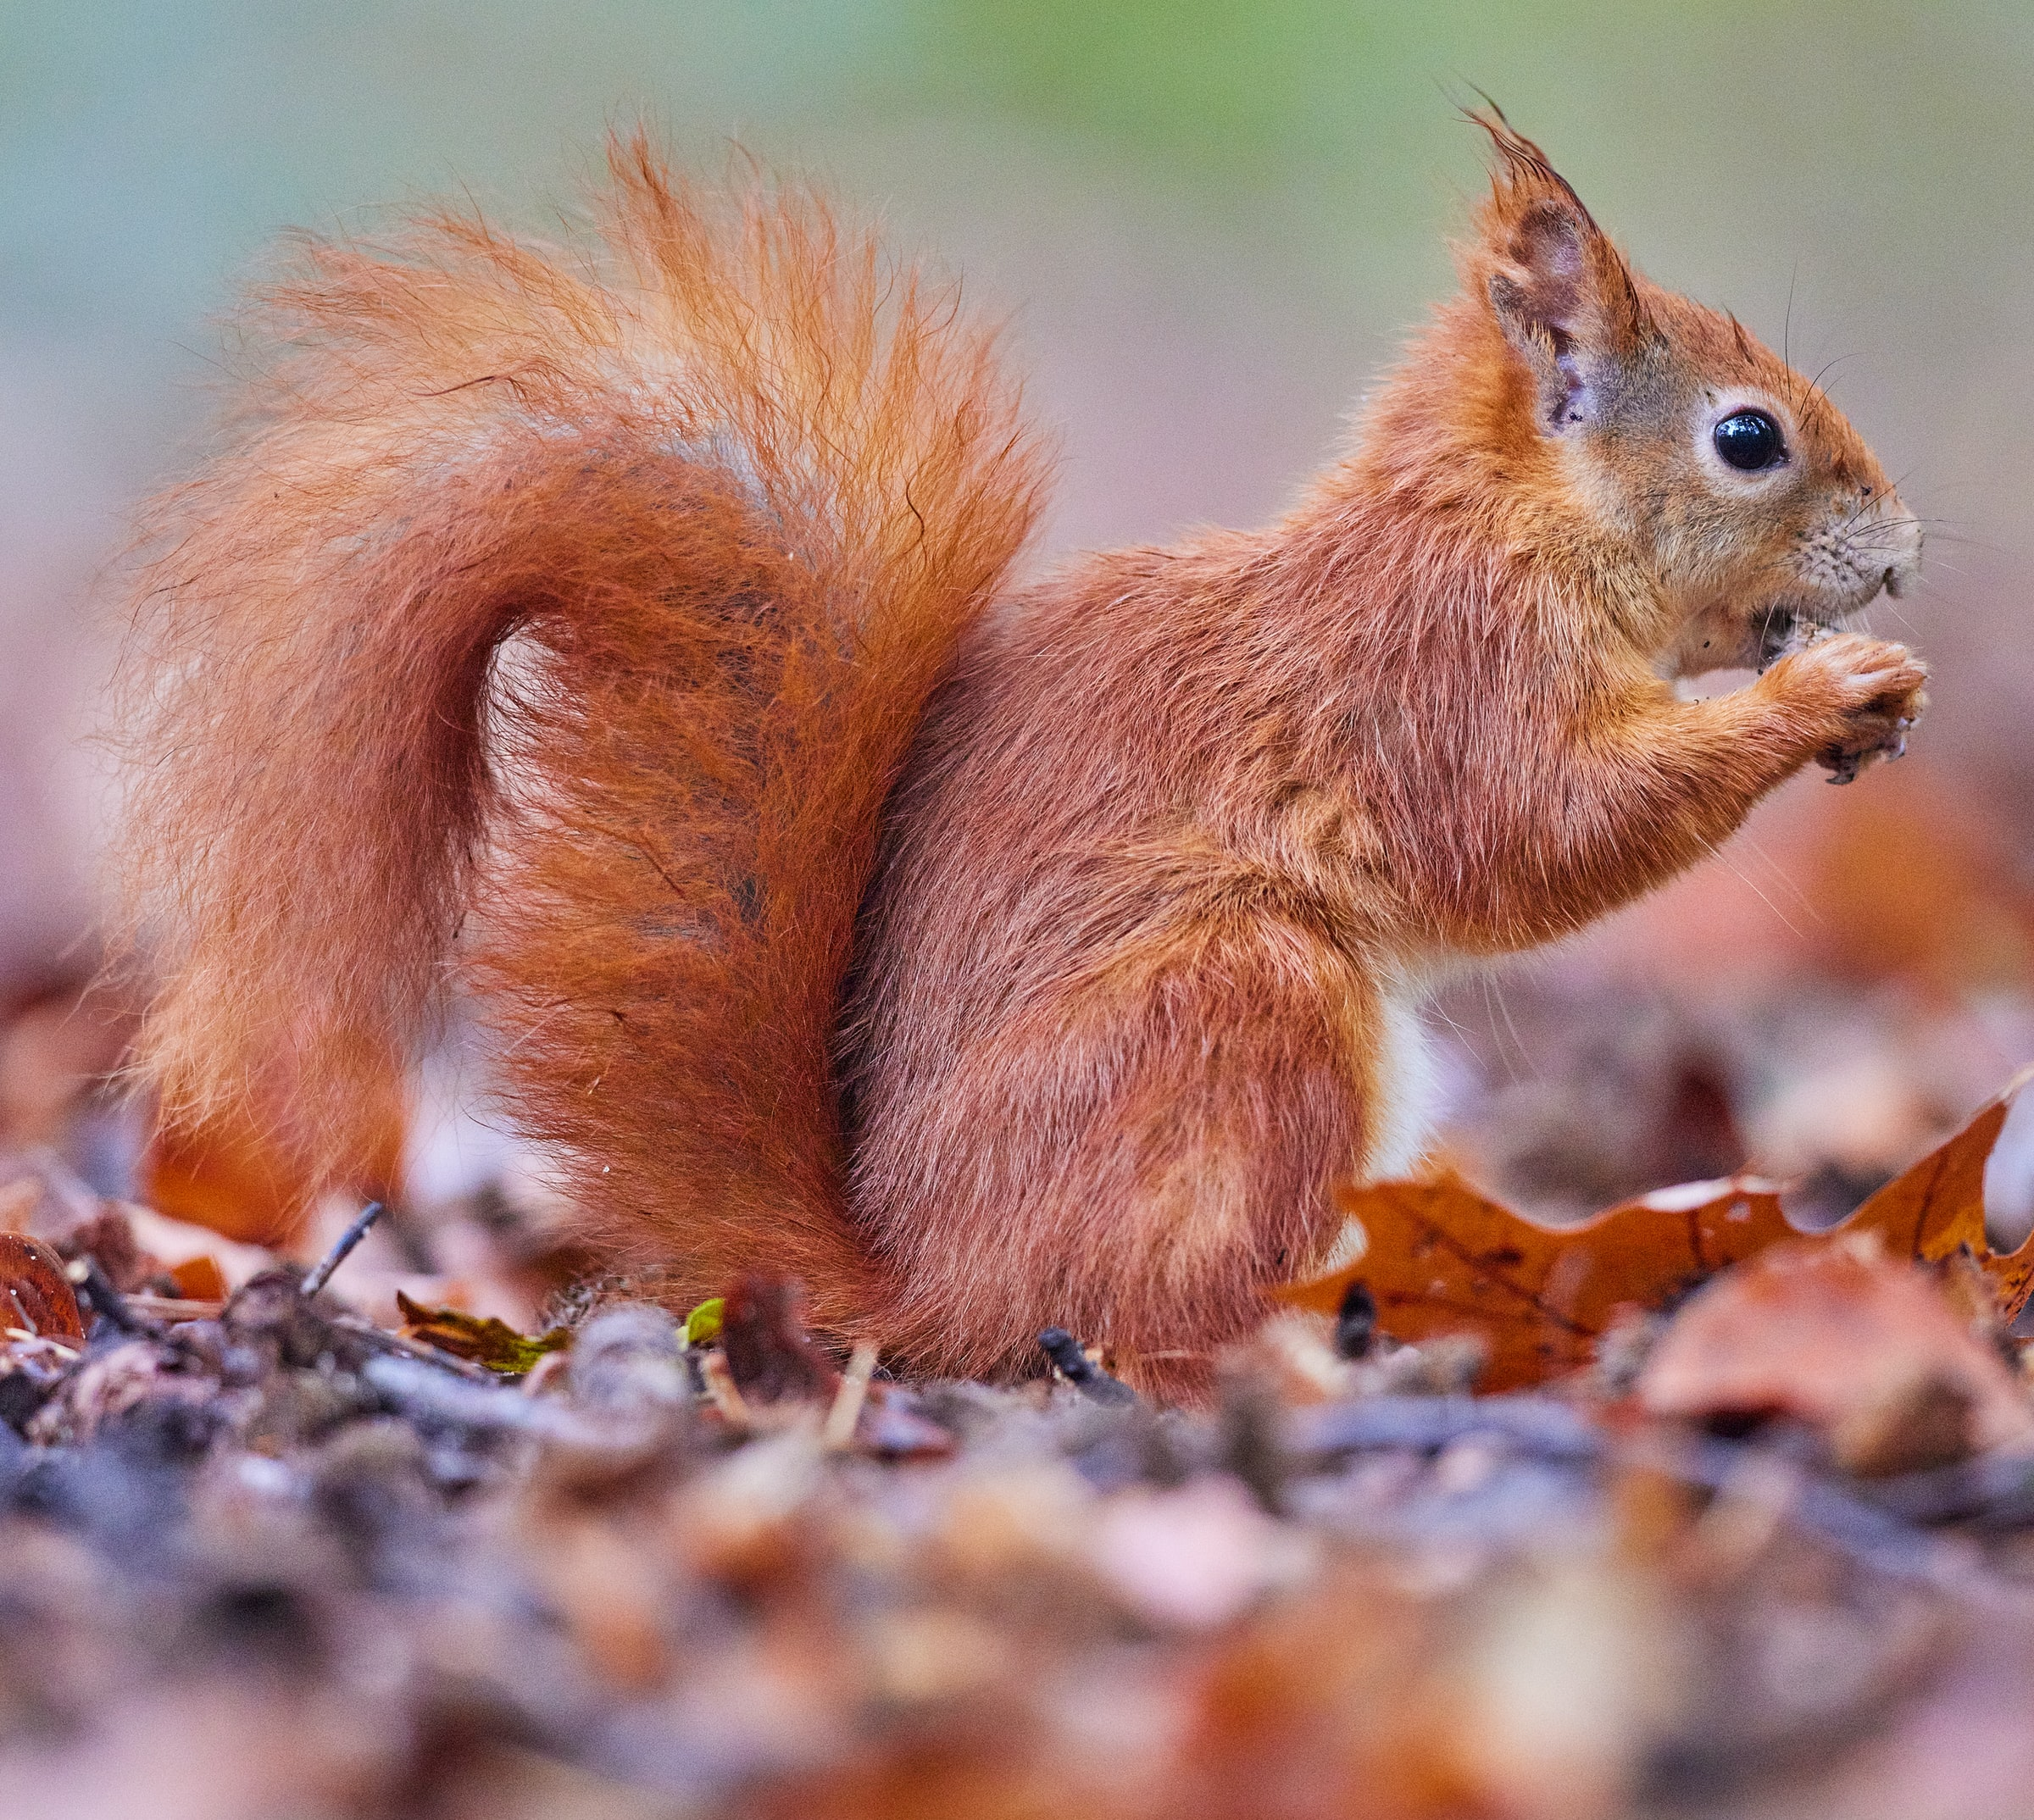squirrel: (141, 121, 1948, 1395)
